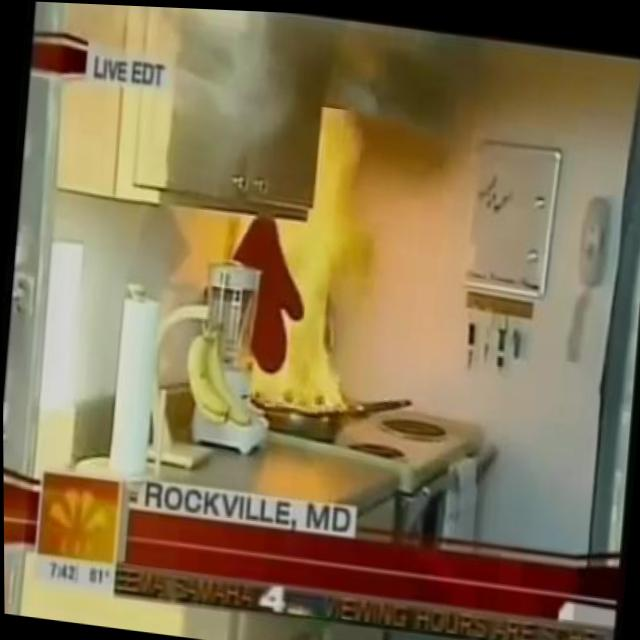fire: (222, 90, 377, 419)
